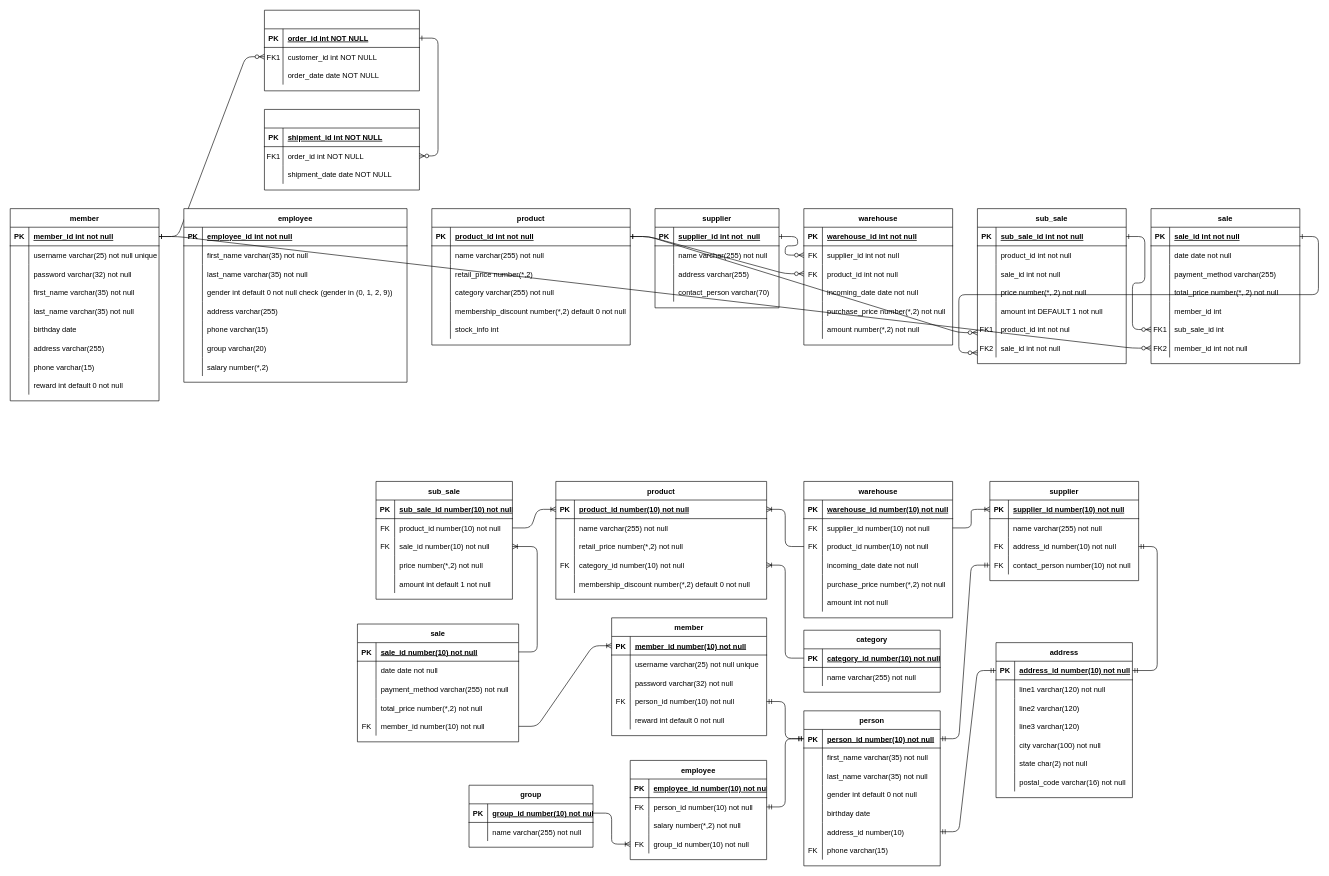
The diagram is 1329 pixels wide and 876 high, and some of its shapes have lost their labels. Each missing label, with the box of its shape:
Orders: (264, 10, 419, 91)
Shipments: (264, 109, 419, 190)
